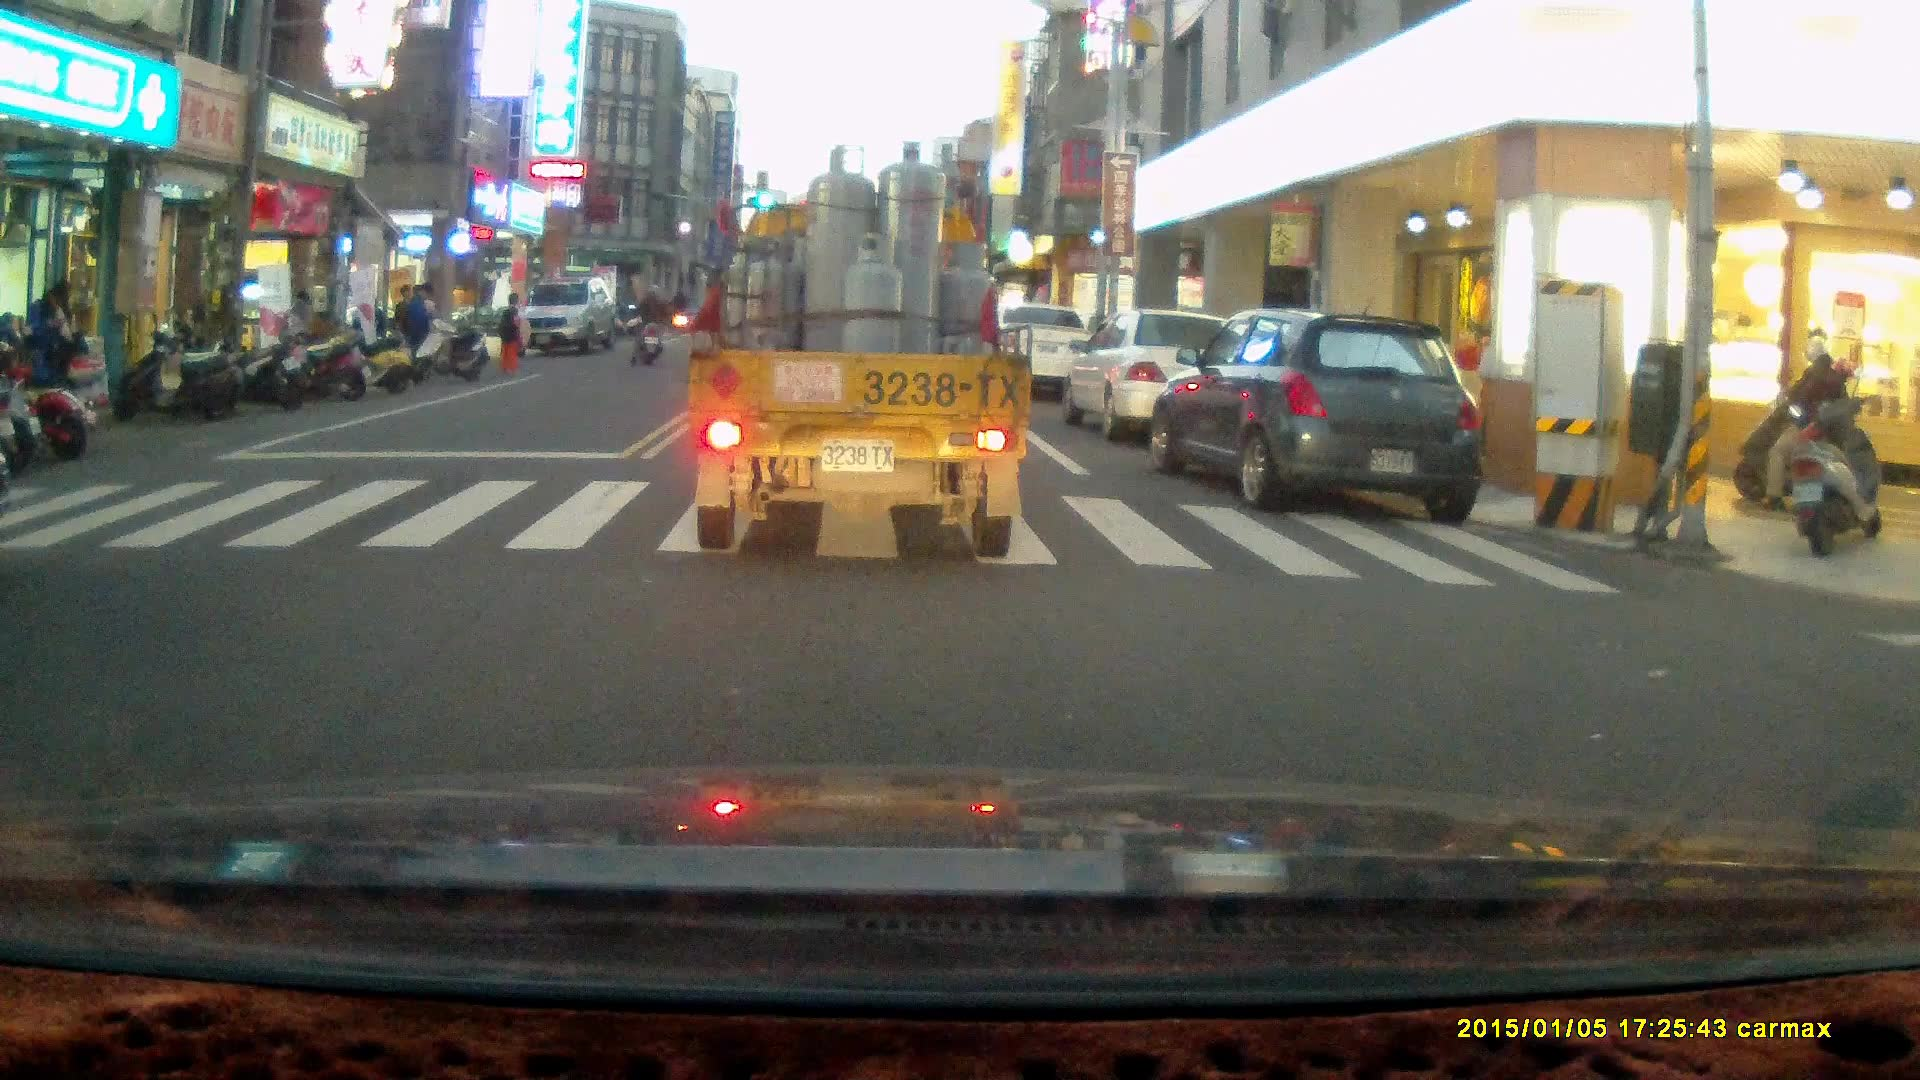pedestrian: (22, 276, 88, 410), (400, 284, 438, 378), (498, 291, 530, 376), (192, 284, 222, 375)
rider: (1729, 333, 1873, 515), (628, 282, 670, 369)
vehicle: (691, 144, 1029, 565), (1149, 309, 1484, 521), (1064, 310, 1259, 440), (983, 303, 1099, 406), (520, 279, 623, 355)
